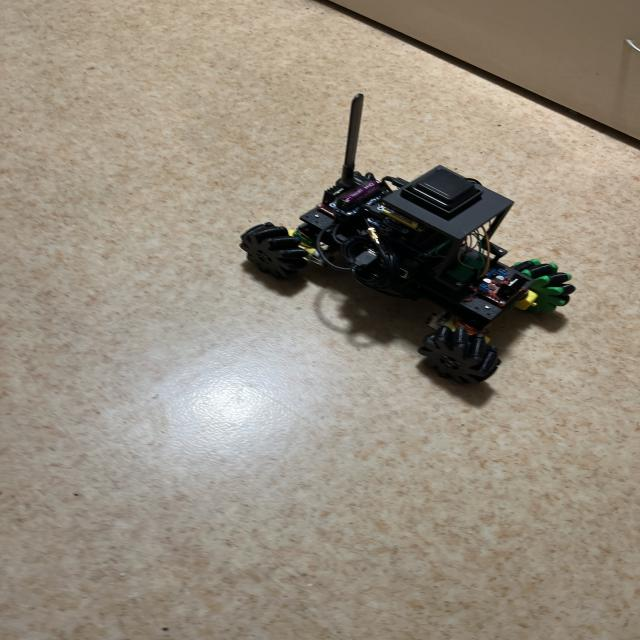robot: (240, 94, 576, 383)
